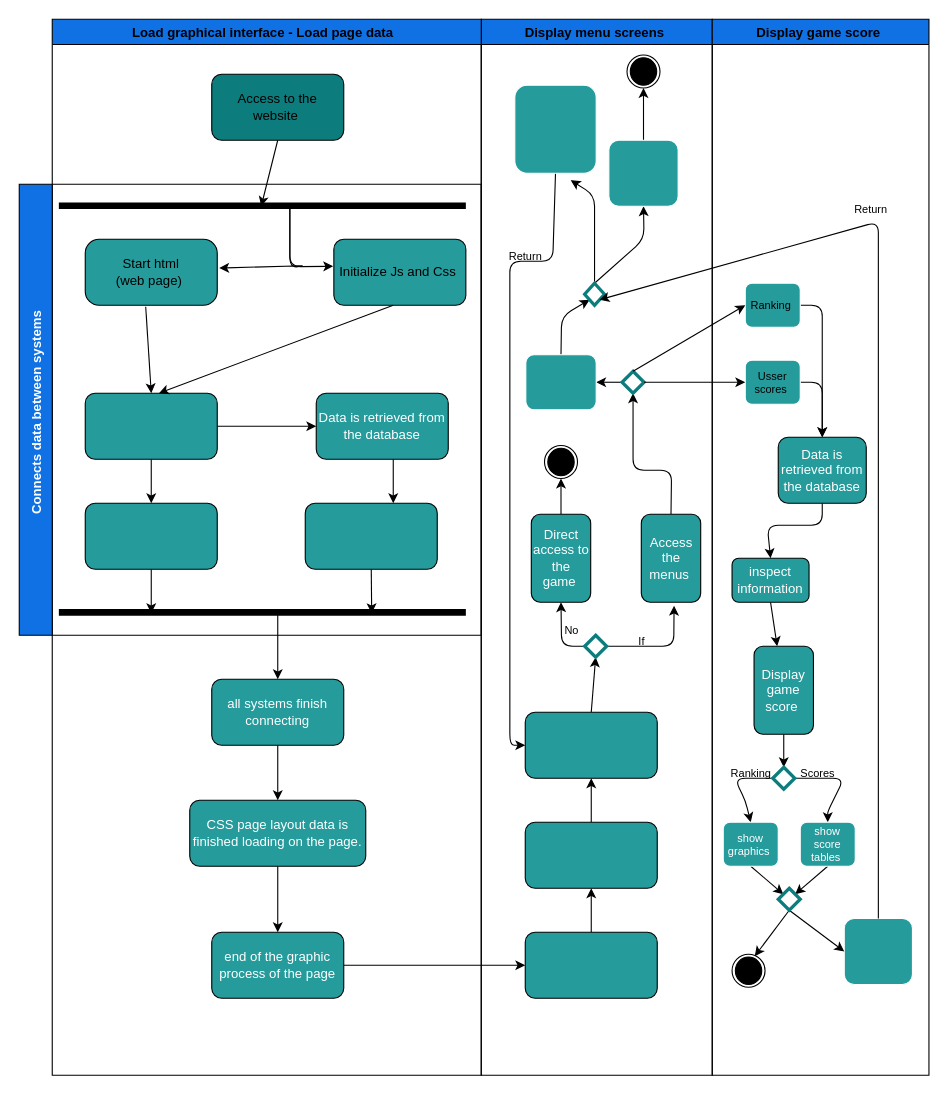
The diagram is 948 pixels wide and 1095 high, and some of its shapes have lost their labels. The centre of each missing label's shape, as x and y in pixels:
Exit the page: the point at 643,172
Game on the web: the point at 150,535
Interaccion Unity-Web: the point at 150,425
launch the web start menu: the point at 590,854
Return to "home" to continue viewing other menus.: the point at 555,128
The user can access any sub-screen of the "home": the point at 590,744
The user can view the page: the point at 590,964
the user continues to analyze the data: the point at 877,951
Upload the API data to the web page.: the point at 370,535
User information (game progress): the point at 560,382
